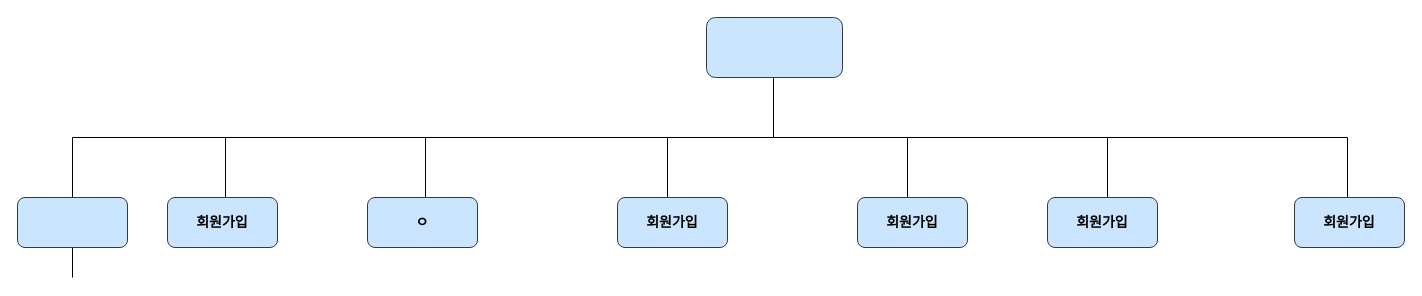
The diagram is 1422 pixels wide and 296 high, and some of its shapes have lost their labels. Here are the shapes that lost their labels. From the top down, the centre of each, then its label:
the point at 774,47: 메인 페이지
the point at 72,222: 로그인
